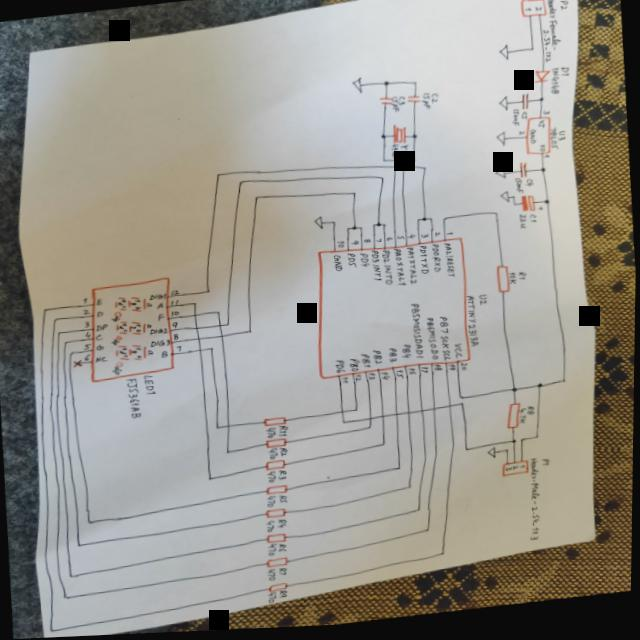capacitor: (520, 198, 543, 218), (519, 97, 530, 114), (518, 166, 527, 183), (405, 98, 420, 108), (378, 100, 393, 109)
crossover: (405, 412, 414, 420), (196, 348, 204, 356), (394, 414, 402, 421), (379, 416, 386, 423), (419, 411, 427, 417), (431, 410, 438, 416), (191, 314, 198, 320), (193, 327, 200, 333), (218, 335, 225, 341), (447, 407, 453, 413), (195, 338, 202, 343), (217, 325, 223, 330), (225, 426, 231, 431), (367, 419, 373, 424), (340, 412, 346, 417), (401, 169, 405, 173), (392, 169, 396, 173)
diode: (531, 74, 550, 88)
ground: (496, 99, 510, 117), (350, 79, 362, 99), (493, 169, 506, 185), (498, 48, 509, 66), (311, 218, 324, 233), (495, 135, 506, 152), (486, 450, 497, 464), (499, 195, 510, 208)
junction: (536, 99, 545, 108), (536, 386, 544, 394), (86, 518, 94, 526), (51, 316, 59, 324), (49, 627, 57, 635), (62, 594, 71, 601), (382, 83, 390, 90), (214, 173, 222, 180), (511, 391, 519, 398), (415, 510, 423, 517), (76, 542, 84, 549), (68, 573, 76, 580), (236, 180, 244, 187), (253, 196, 260, 203), (492, 214, 499, 221), (381, 444, 388, 451), (366, 427, 373, 434), (62, 340, 70, 346), (539, 171, 545, 178), (207, 477, 214, 483), (396, 468, 403, 474), (55, 330, 62, 336), (380, 137, 386, 143), (464, 450, 470, 456), (407, 488, 413, 494), (379, 178, 385, 184), (351, 193, 357, 199), (353, 410, 359, 416), (543, 204, 549, 210), (458, 399, 465, 404), (191, 303, 197, 308), (411, 84, 417, 89), (206, 290, 212, 295), (441, 555, 447, 560), (42, 307, 48, 312), (425, 531, 431, 536), (225, 451, 231, 456), (247, 331, 253, 336), (562, 383, 568, 388), (214, 426, 220, 431), (460, 405, 466, 410), (225, 324, 231, 329), (68, 351, 75, 355), (375, 225, 380, 230), (511, 444, 517, 448), (208, 349, 214, 353), (441, 221, 447, 225), (340, 423, 346, 427), (421, 170, 427, 174), (215, 312, 221, 316), (411, 138, 417, 142), (421, 221, 427, 225), (529, 52, 534, 56), (381, 161, 385, 166), (351, 229, 356, 233), (505, 453, 510, 457), (332, 223, 336, 227), (512, 207, 516, 211), (411, 162, 415, 166), (428, 221, 432, 225), (382, 226, 386, 230), (535, 440, 539, 443), (520, 443, 524, 446), (511, 200, 515, 203), (401, 163, 405, 166), (416, 222, 420, 225), (371, 227, 375, 230), (359, 230, 363, 233), (346, 230, 350, 233), (393, 163, 397, 165)
resistor: (505, 407, 523, 434), (495, 269, 511, 298), (263, 417, 289, 430), (265, 486, 290, 499), (264, 508, 288, 521), (264, 461, 288, 474), (266, 558, 289, 571), (265, 534, 288, 547), (265, 439, 289, 451), (268, 584, 290, 595)
terminal: (519, 0, 546, 23), (502, 464, 531, 481)
text: (524, 461, 545, 546), (409, 305, 426, 367), (463, 297, 482, 351), (544, 0, 562, 56), (437, 318, 454, 366), (424, 319, 441, 365), (125, 378, 143, 420), (391, 250, 407, 290), (404, 250, 419, 289), (442, 245, 456, 283), (380, 252, 394, 289), (418, 247, 431, 279), (370, 252, 382, 285), (430, 246, 442, 277), (548, 71, 560, 100), (541, 34, 551, 68), (143, 375, 157, 397), (453, 345, 466, 364), (332, 256, 345, 275), (548, 131, 558, 155), (400, 346, 413, 364), (386, 350, 399, 368), (345, 253, 358, 271), (348, 360, 361, 378), (419, 95, 431, 114), (334, 361, 347, 378), (149, 339, 171, 349), (512, 181, 524, 199), (373, 350, 384, 369), (360, 353, 371, 372), (509, 113, 520, 132), (358, 254, 370, 271), (390, 146, 399, 166), (149, 328, 168, 337), (518, 412, 528, 429), (267, 545, 279, 559), (277, 427, 290, 439), (265, 429, 278, 441), (266, 497, 278, 510), (478, 297, 489, 311), (518, 217, 527, 234), (528, 133, 537, 150), (390, 99, 399, 116), (149, 294, 167, 302), (268, 449, 279, 462), (266, 473, 277, 486), (266, 522, 277, 535), (95, 323, 109, 333), (458, 365, 470, 376), (277, 471, 288, 483), (276, 520, 288, 531), (277, 544, 288, 556), (267, 594, 278, 606), (267, 570, 277, 583), (508, 276, 517, 290), (559, 71, 570, 82), (398, 147, 409, 158), (395, 372, 405, 384), (558, 4, 568, 16), (95, 356, 109, 364), (174, 344, 185, 354), (159, 350, 170, 360), (278, 496, 288, 507), (380, 374, 391, 384), (523, 182, 534, 192), (170, 334, 182, 343), (280, 448, 289, 460), (432, 366, 444, 375), (519, 114, 528, 126), (430, 96, 439, 108), (336, 242, 346, 252), (517, 275, 527, 285), (537, 148, 547, 158), (526, 410, 536, 420), (170, 310, 181, 319), (278, 592, 289, 601), (407, 370, 418, 379), (556, 135, 565, 146), (396, 99, 405, 110), (168, 300, 180, 308), (420, 235, 430, 244), (279, 569, 289, 578), (420, 369, 430, 378), (447, 366, 457, 375), (528, 218, 537, 228), (536, 124, 545, 134), (170, 290, 181, 298), (157, 314, 166, 323), (83, 353, 92, 362), (95, 298, 103, 307), (95, 344, 104, 352), (355, 377, 363, 386), (82, 309, 92, 316), (82, 343, 92, 350), (434, 234, 442, 242), (171, 322, 179, 330), (156, 303, 164, 311), (368, 375, 376, 383), (542, 113, 550, 121), (542, 463, 550, 471), (384, 239, 393, 246), (95, 334, 104, 341), (406, 237, 416, 243), (534, 10, 542, 17), (445, 234, 453, 241), (96, 311, 104, 318), (85, 331, 92, 339), (342, 379, 350, 386), (396, 238, 405, 244), (82, 297, 89, 304), (84, 321, 91, 328), (363, 241, 371, 247), (523, 11, 531, 17), (350, 243, 359, 248), (518, 135, 525, 141), (542, 158, 550, 163), (506, 471, 513, 476), (375, 241, 382, 245), (520, 469, 526, 473), (513, 470, 519, 474)
